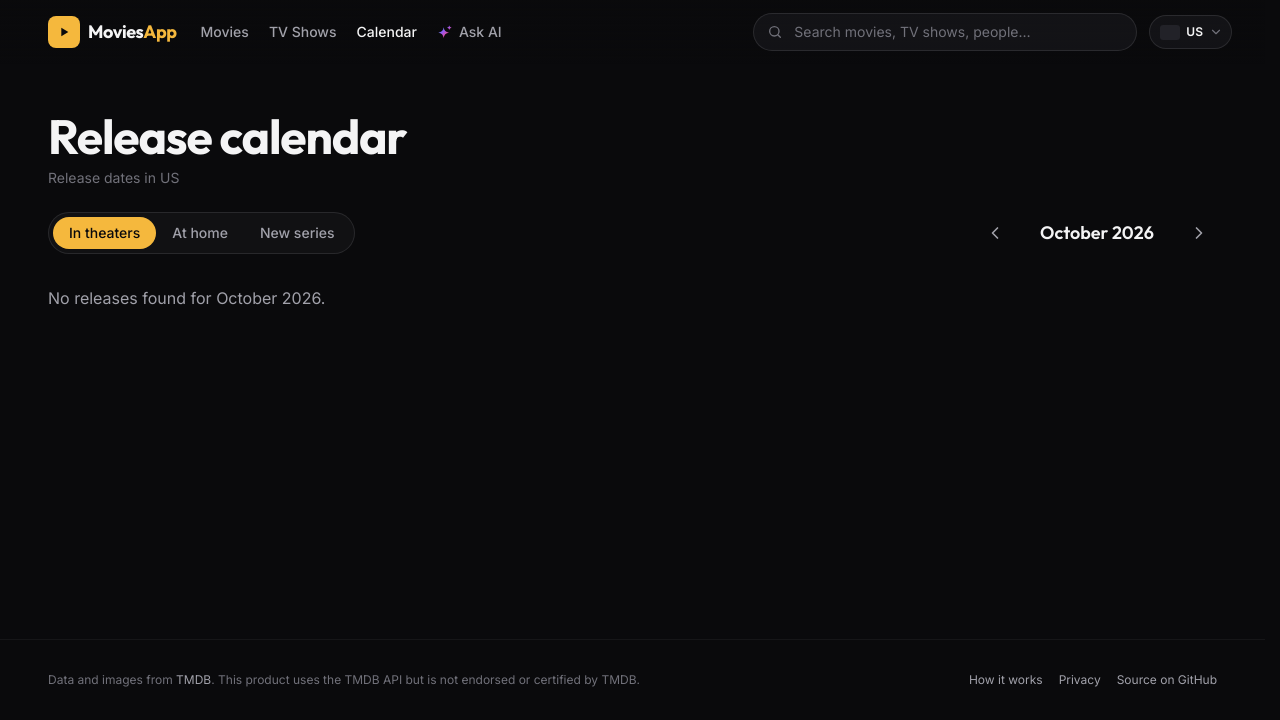
it: CalendarPage › switches release type and month through the URL
The width and height of the screenshot is (1280, 720).
Expected: the text "No releases found for October 2026." is shown, [48, 288, 325, 308]
Click the button "New series" at (297, 233), box [244, 217, 350, 249]
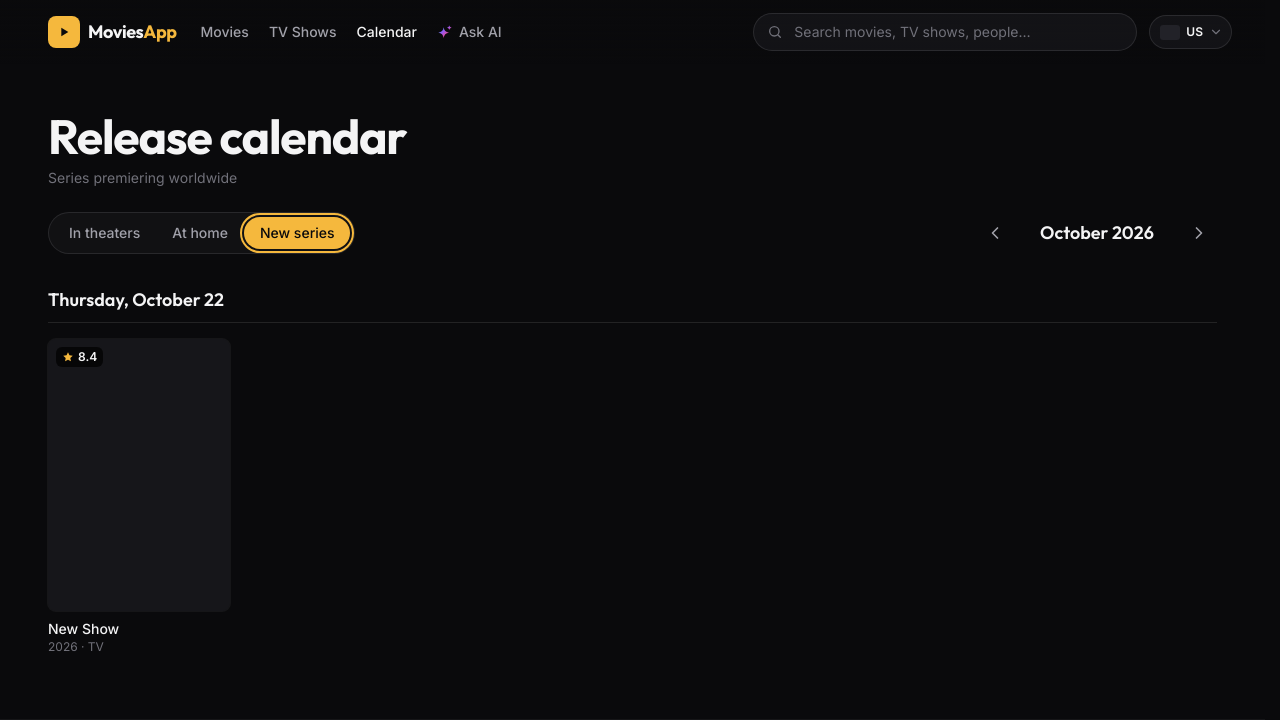
Result: the text "Series premiering worldwide" is shown at [48, 169, 237, 186]
Click the button named "Next month" at (1199, 233), box [1181, 215, 1217, 251]
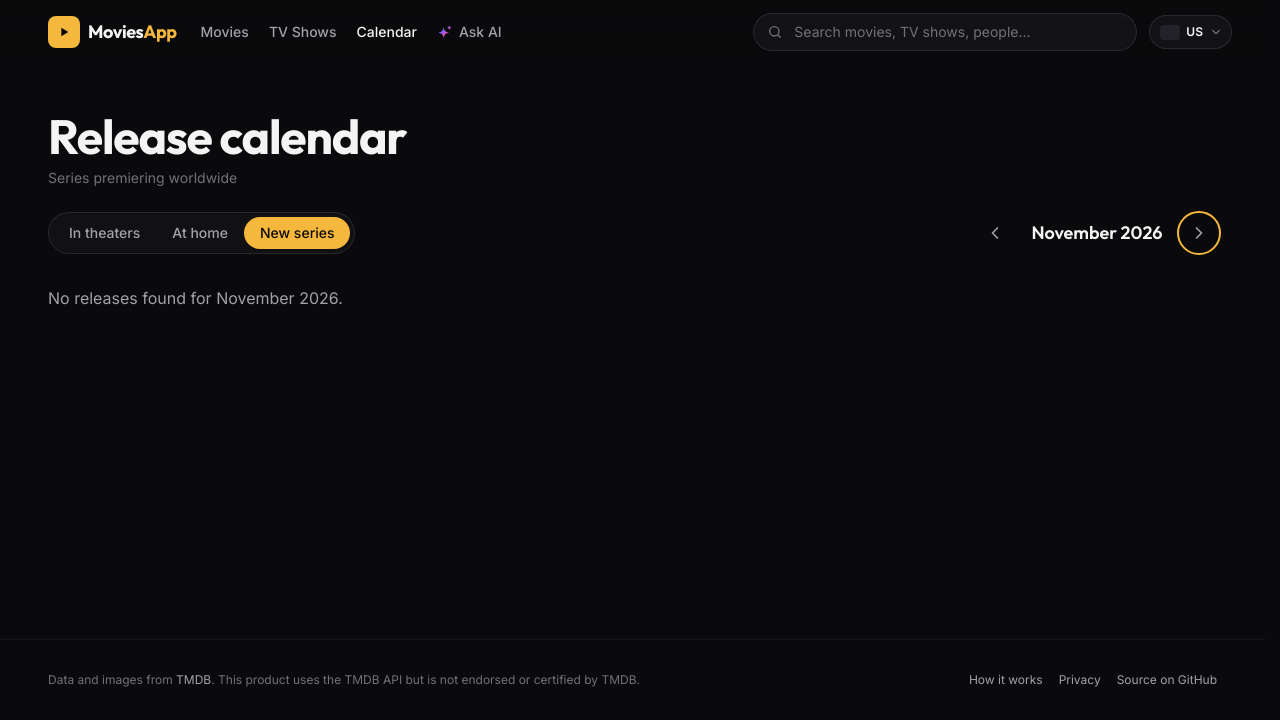
Result: the text "No releases found for November 2026." is shown at [48, 288, 343, 308]
